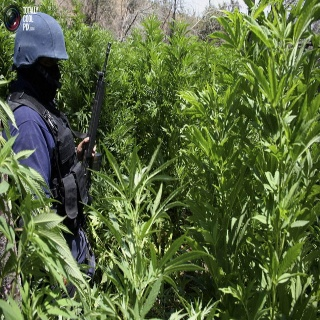rifle: (80, 40, 113, 183)
